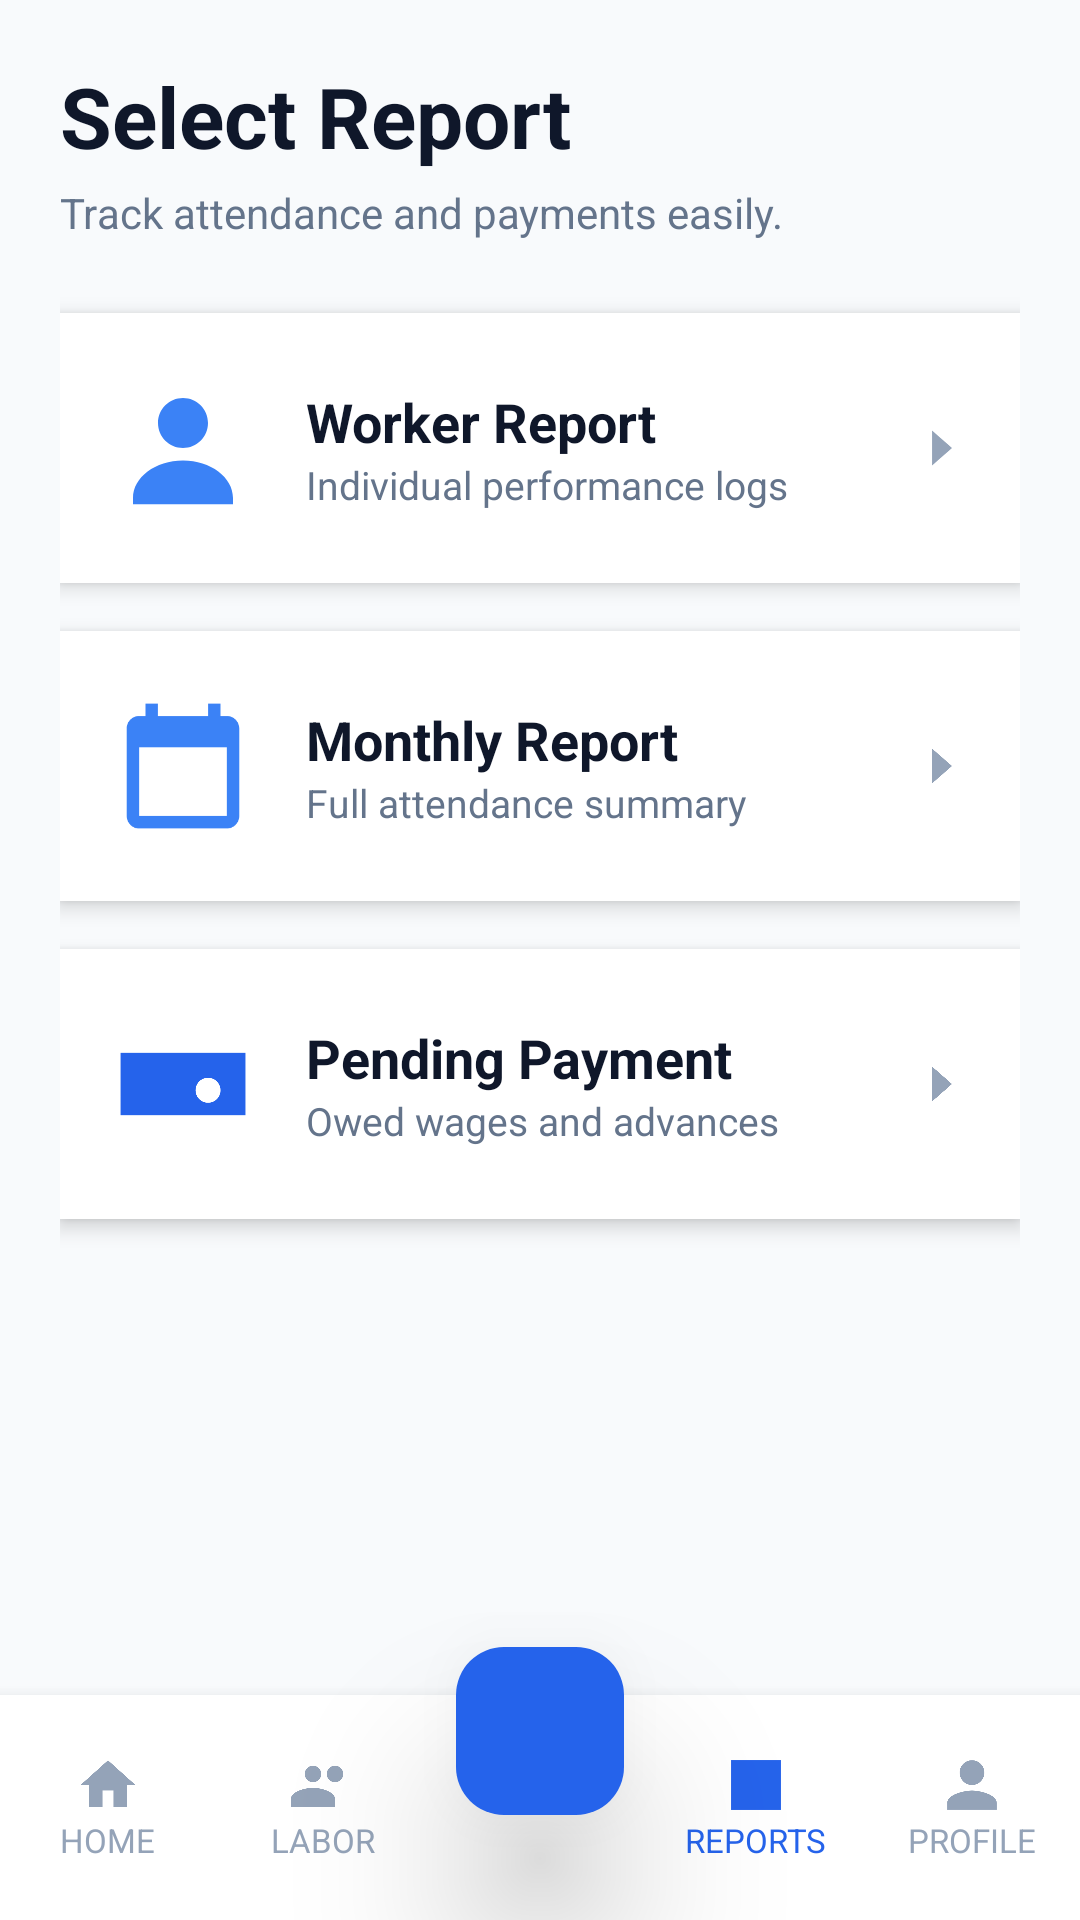

Screen size 1080 x 1920. Icon name, then its center in pixels as point (x, y):
arrow: point (942, 448), point (942, 766), point (942, 1084)
calendar: point (183, 766)
